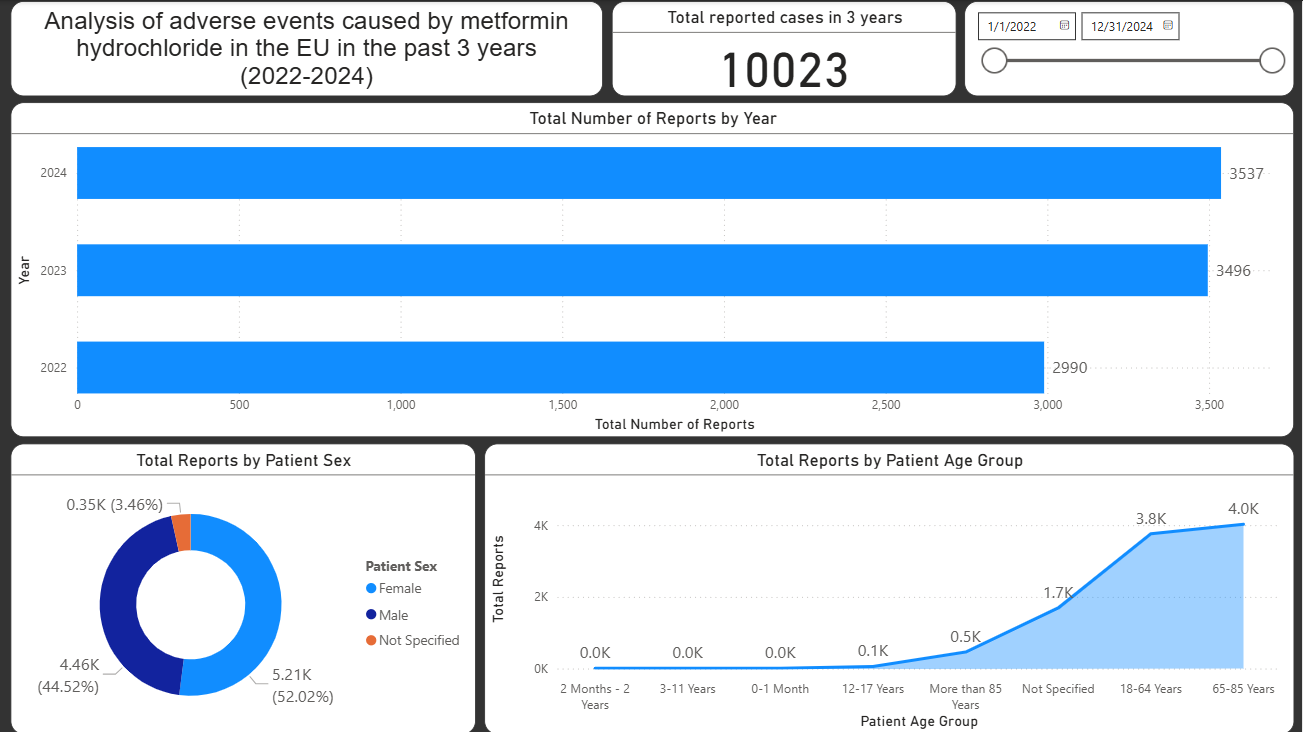

The page's visual inventory and layout, read from the dashboard file:
{"tool":"powerbi","page":{"name":"Page 1","canvas":[1280,720],"ordinal":0},"visuals":[{"type":"barChart","fields":{"Category":["Metformin 22-24.EV Gateway Receipt Date.Variation.Date Hierarchy.Year","Metformin 22-24.EV Gateway Receipt Date.Variation.Date Hierarchy.Quarter","Metformin 22-24.EV Gateway Receipt Date.Variation.Date Hierarchy.Month","Metformin 22-24.EV Gateway Receipt Date.Variation.Date Hierarchy.Day"],"Y":["CountNonNull(Metformin 22-24.Report Type)"]},"box":[10,0,629.4,424.2],"z":0},{"type":"donutChart","fields":{"Category":["Metformin 22-24.Patient Sex"],"Y":["CountNonNull(Metformin 22-24.Report Type)"]},"box":[650.6,0,629.4,286.1],"z":1},{"type":"areaChart","fields":{"Category":["Metformin 22-24.Patient Age Group"],"Y":["CountNonNull(Metformin 22-24.Report Type)"]},"box":[650.6,359.5,629.4,286.1],"z":2},{"type":"card","fields":{"Values":["Metformin 22-24.Total AE reported in 3 years"]},"box":[10,424,629,222],"z":3},{"type":"slicer","fields":{"Values":["Metformin 22-24.EV Gateway Receipt Date"]},"box":[23.6,619.5,301,100.8],"z":4}]}

Visuals, with their boxes in screenshot pixels (x1, y1, x2, y2), scaled from the page's 1280x720 canvas onto the 1303x732 screenshot:
barChart - Metformin 22-24.EV Gateway Receipt Date.Variation.Date Hierarchy.Year x Metformin 22-24.EV Gateway Receipt Date.Variation.Date Hierarchy.Quarter: l=10, t=0, r=651, b=431
donutChart - Metformin 22-24.Patient Sex x CountNonNull(Metformin 22-24.Report Type): l=662, t=0, r=1302, b=291
areaChart - Metformin 22-24.Patient Age Group x CountNonNull(Metformin 22-24.Report Type): l=662, t=365, r=1302, b=656
card - Metformin 22-24.Total AE reported in 3 years: l=10, t=431, r=650, b=657
slicer - Metformin 22-24.EV Gateway Receipt Date: l=24, t=630, r=330, b=731
